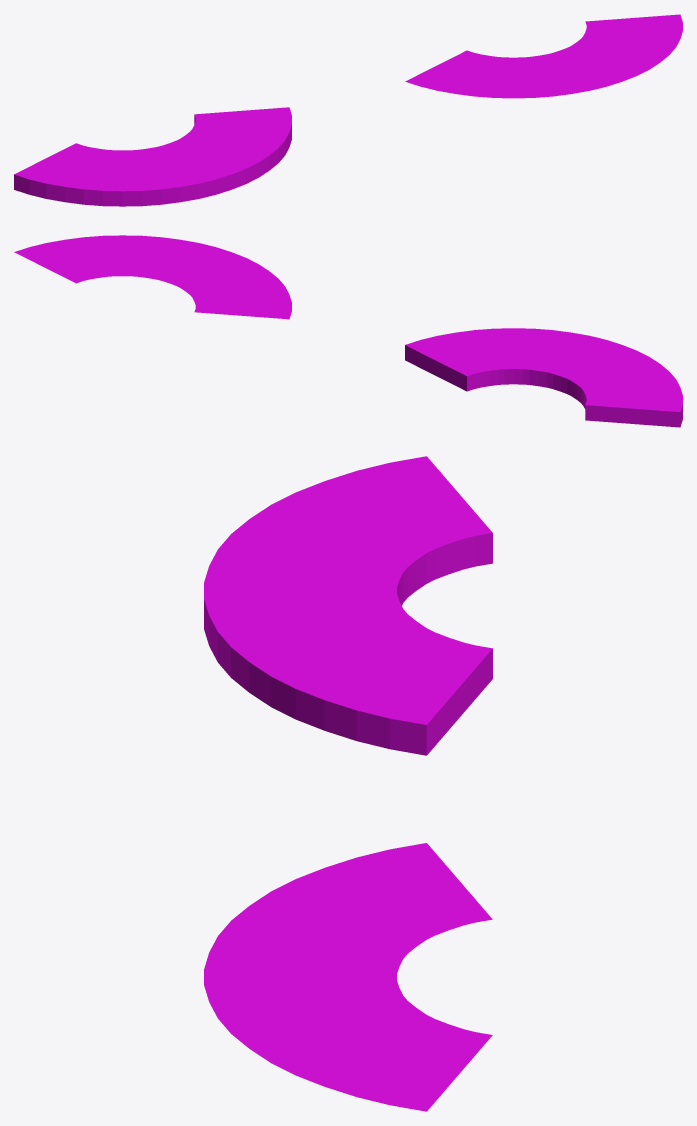
Rendered from halfslash 1.fbx.
The picture shows the model from 3 angles, top to bottom: view 1: azimuth 30°, elevation 25°; view 2: azimuth 150°, elevation 25°; view 3: azimuth 270°, elevation 25°; orthographic projection. The views are drawn at different scales.
Parts seen in each view (by area): view 1: HalfSlash, HorizSlash; view 2: HalfSlash, HorizSlash; view 3: HalfSlash, HorizSlash.
Boxes of the visible parts, box(x1,y1,x2,y2) form: HalfSlash: box(14, 107, 291, 206); HorizSlash: box(405, 14, 682, 98); HalfSlash: box(405, 328, 682, 427); HorizSlash: box(14, 235, 291, 319); HalfSlash: box(204, 456, 492, 755); HorizSlash: box(204, 843, 492, 1111).
Bounding box in the file's own units: 13.64 × 0.3 × 2.56.
